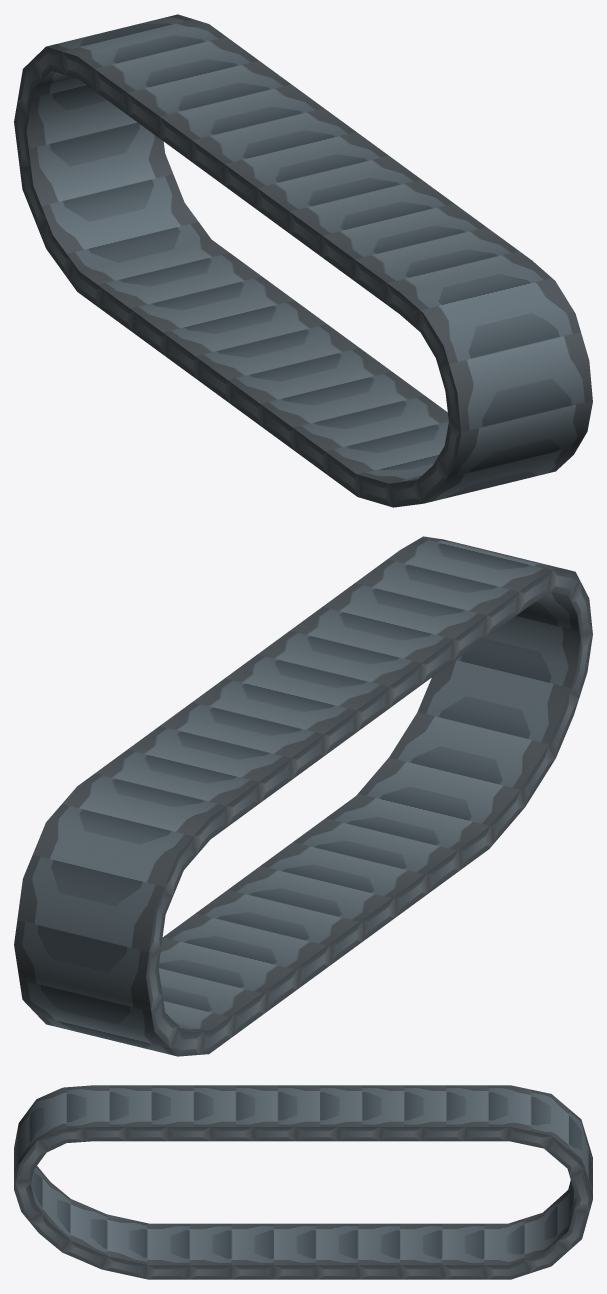
The model's file is tank_4_track_001.fbx.
3 views of the same model, one above another, from view 1: azimuth 30°, elevation 25°; view 2: azimuth 150°, elevation 25°; view 3: azimuth 270°, elevation 25° (orthographic). The views are drawn at different scales.
Visible parts, largest first — view 1: tank_4_track_001; view 2: tank_4_track_001; view 3: tank_4_track_001.
Part boxes in pixels (x1,y1,x2,y2): tank_4_track_001: [14, 14, 592, 507]; tank_4_track_001: [14, 536, 592, 1056]; tank_4_track_001: [14, 1085, 592, 1279].
Bounding box in the file's own units: 171 × 1005 × 292.
